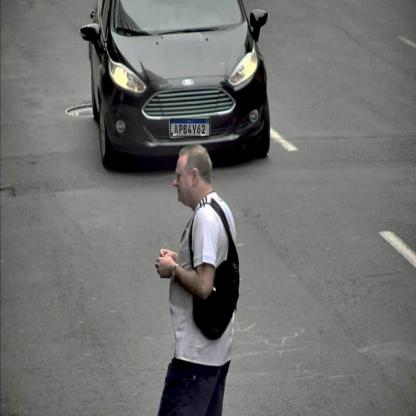PlacaM: (170, 119, 210, 136)
